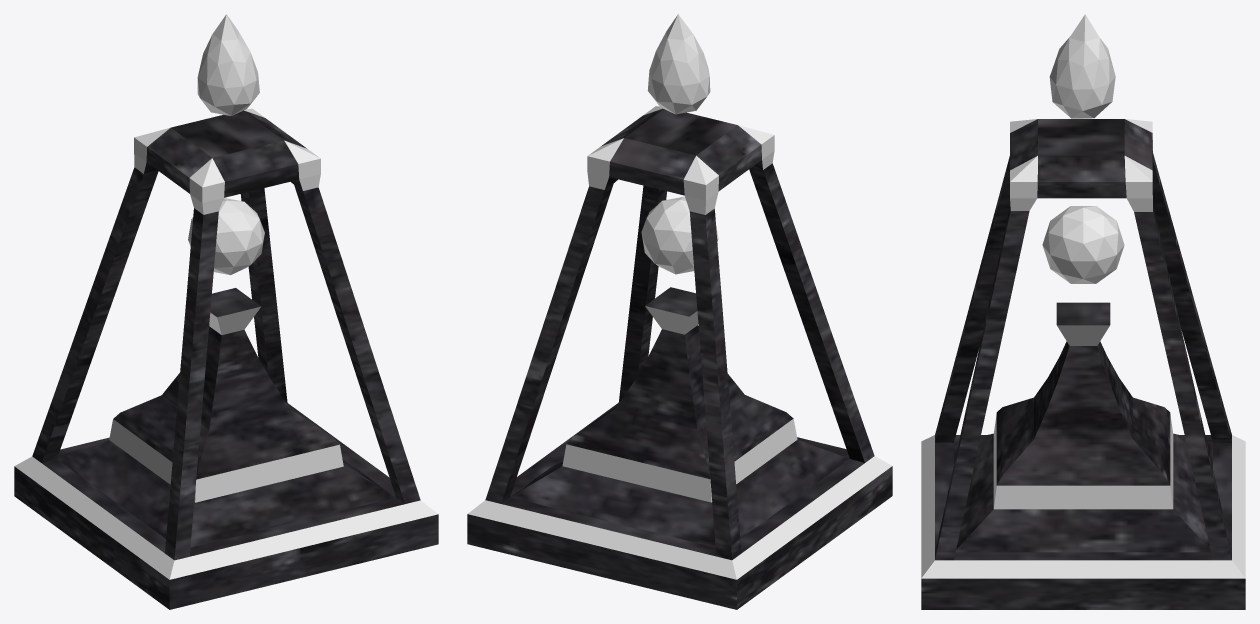
File: su kulesi2.fbx
3 renders of one model, left to right at view 1: azimuth 30°, elevation 25°; view 2: azimuth 150°, elevation 25°; view 3: azimuth 270°, elevation 25°, orthographic. The views are drawn at different scales.
Visible parts, largest first — view 1: Cube.001, Icosphere, Cube.002; view 2: Cube.001, Icosphere, Cube.002; view 3: Cube.001, Cube.002, Icosphere.
Part boxes in pixels (<box>): Cube.001: <box>14,108,438,609</box>; Icosphere: <box>197,14,259,115</box>; Cube.002: <box>188,198,264,275</box>; Cube.001: <box>467,106,892,609</box>; Icosphere: <box>647,14,710,114</box>; Cube.002: <box>641,196,718,274</box>; Cube.001: <box>921,119,1245,609</box>; Cube.002: <box>1042,206,1124,283</box>; Icosphere: <box>1049,14,1115,118</box>.
Bounding box in the file's own units: 200 × 359 × 200.
